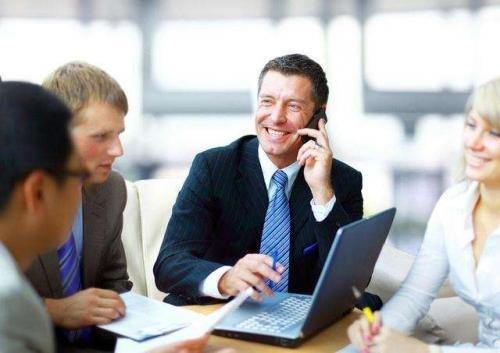calling: (296, 105, 335, 187)
